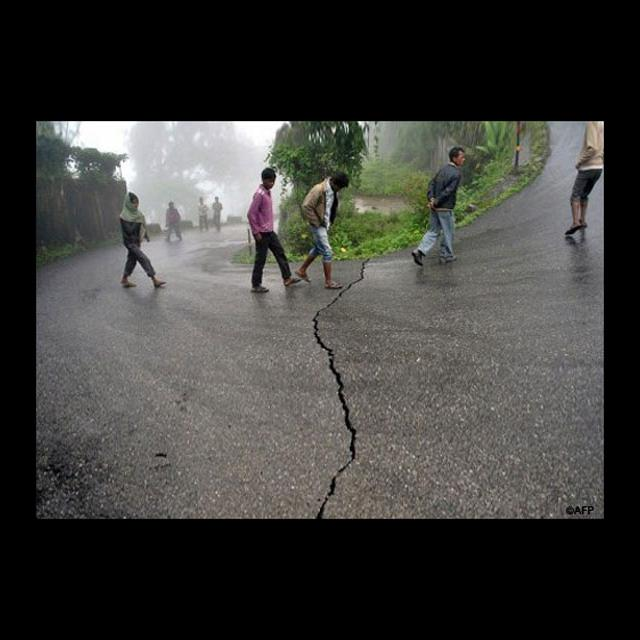retak_memanjang: (284, 298, 365, 520), (332, 258, 371, 300)
